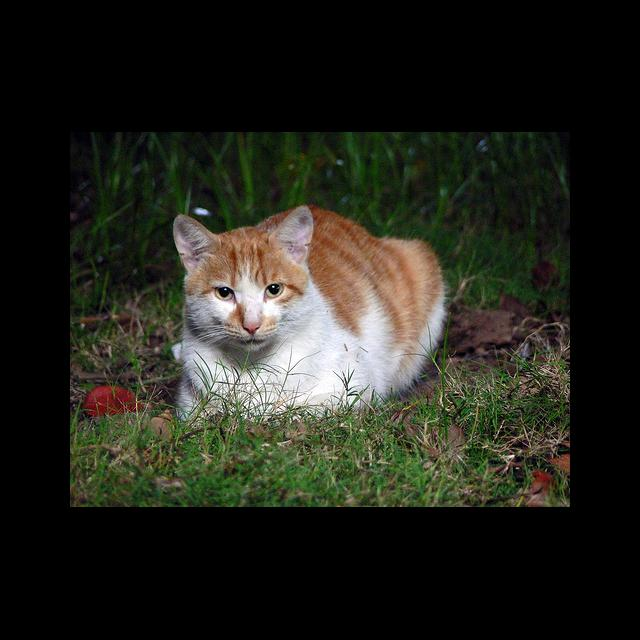animals: (179, 206, 305, 334)
